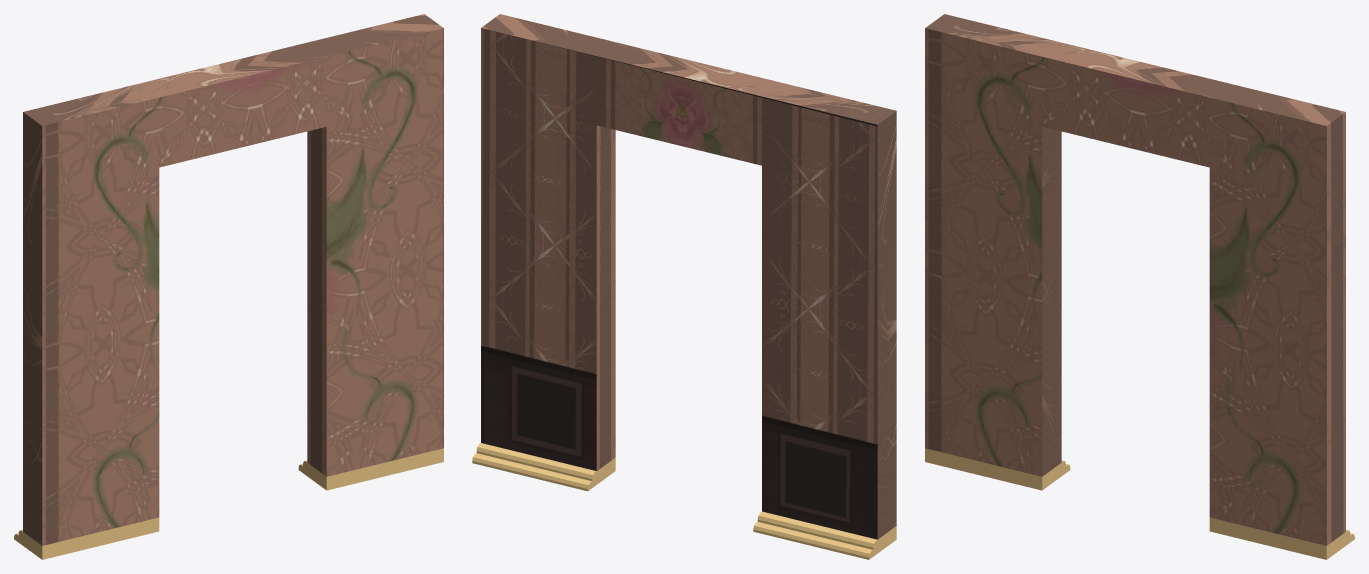
File: DoorWall.fbx
The picture shows the model from 3 angles, left to right: view 1: azimuth 30°, elevation 25°; view 2: azimuth 150°, elevation 25°; view 3: azimuth 330°, elevation 25°; orthographic projection.
Visible parts, largest first — view 1: DoorWall, WallTrimCut; view 2: DoorWall, WallTrimCut; view 3: DoorWall, WallTrimCut.
Part boxes in pixels (bbox=[...]): DoorWall: bbox=[23, 14, 443, 545]; WallTrimCut: bbox=[14, 448, 443, 559]; DoorWall: bbox=[481, 14, 896, 539]; WallTrimCut: bbox=[472, 443, 896, 559]; DoorWall: bbox=[925, 14, 1345, 545]; WallTrimCut: bbox=[925, 448, 1354, 559].
Size of the model in its own units: 600 by 620 by 72.96.
